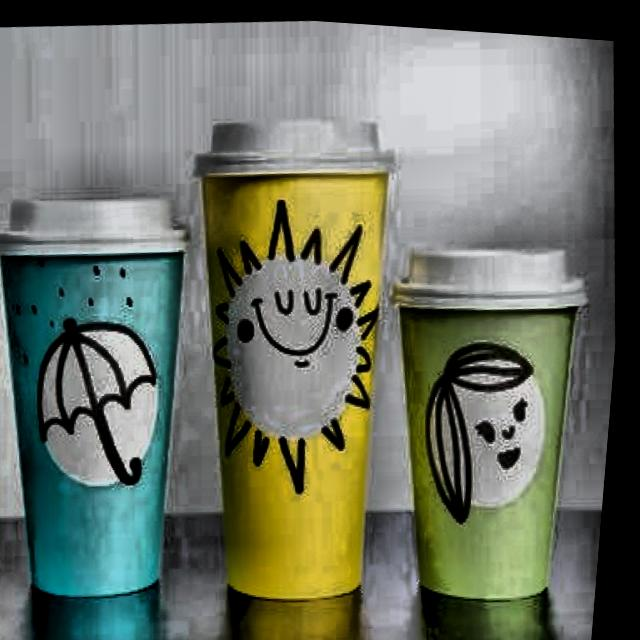Cup: (163, 130, 432, 621), (0, 203, 213, 613), (375, 268, 620, 620)
